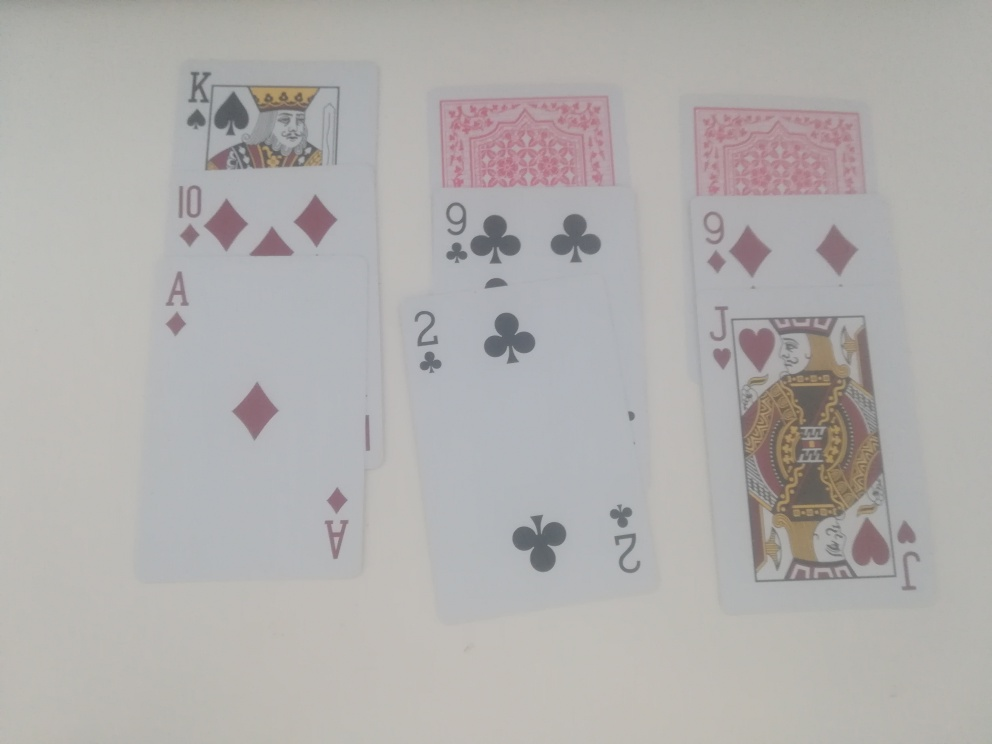10D: (171, 179, 208, 256)
2C: (405, 307, 451, 381)
9C: (442, 200, 472, 271)
9D: (697, 208, 732, 279)
AD: (162, 265, 195, 345)
BACK: (693, 102, 872, 199), (439, 96, 620, 191)
JH: (703, 298, 737, 374)
KS: (183, 66, 215, 133)
